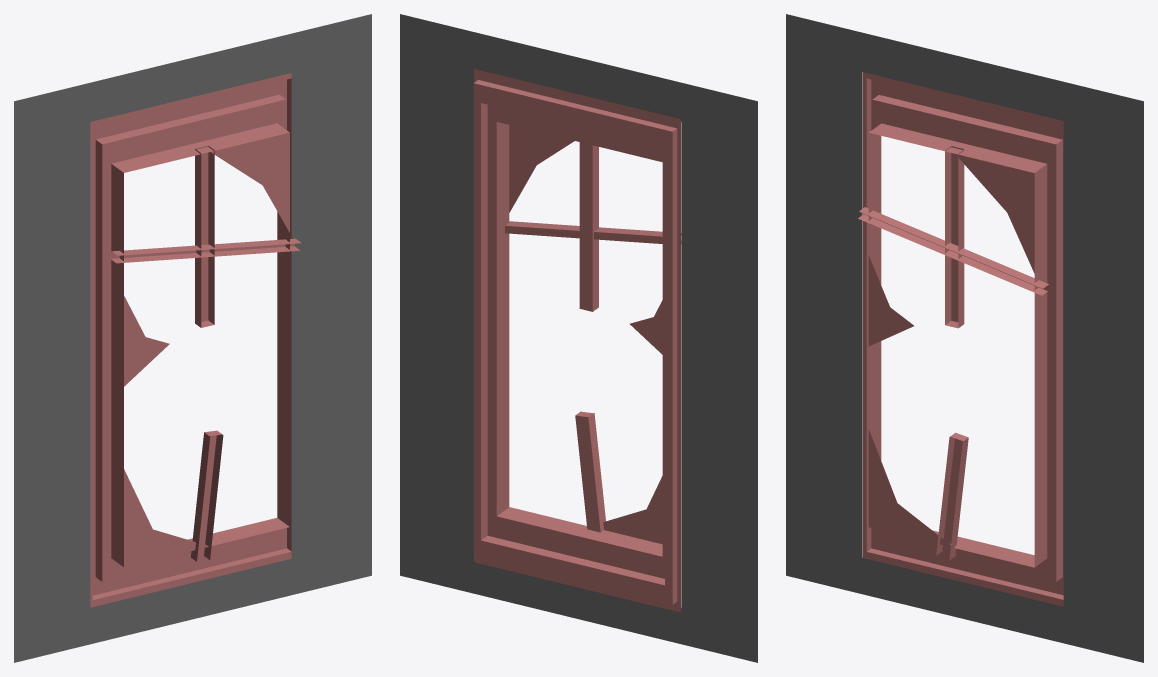
Rendered from 2x3BrokenOldWindow.fbx.
3 renders of one model, left to right at view 1: azimuth 30°, elevation 25°; view 2: azimuth 150°, elevation 25°; view 3: azimuth 330°, elevation 25°, orthographic.
Visible parts, largest first — view 1: polySurface623; view 2: polySurface623; view 3: polySurface623.
Part boxes in pixels (x1,y1,x2,y2): polySurface623: (14, 14, 371, 662); polySurface623: (400, 14, 757, 662); polySurface623: (786, 14, 1143, 662).
Size of the model in its own units: 2 by 3 by 0.2136.
